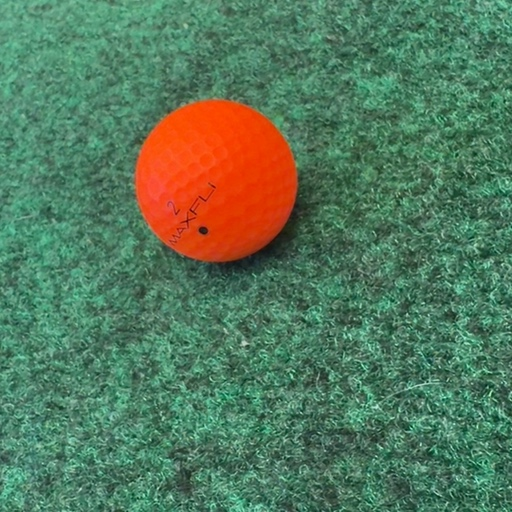Ball: (135, 100, 298, 262)
